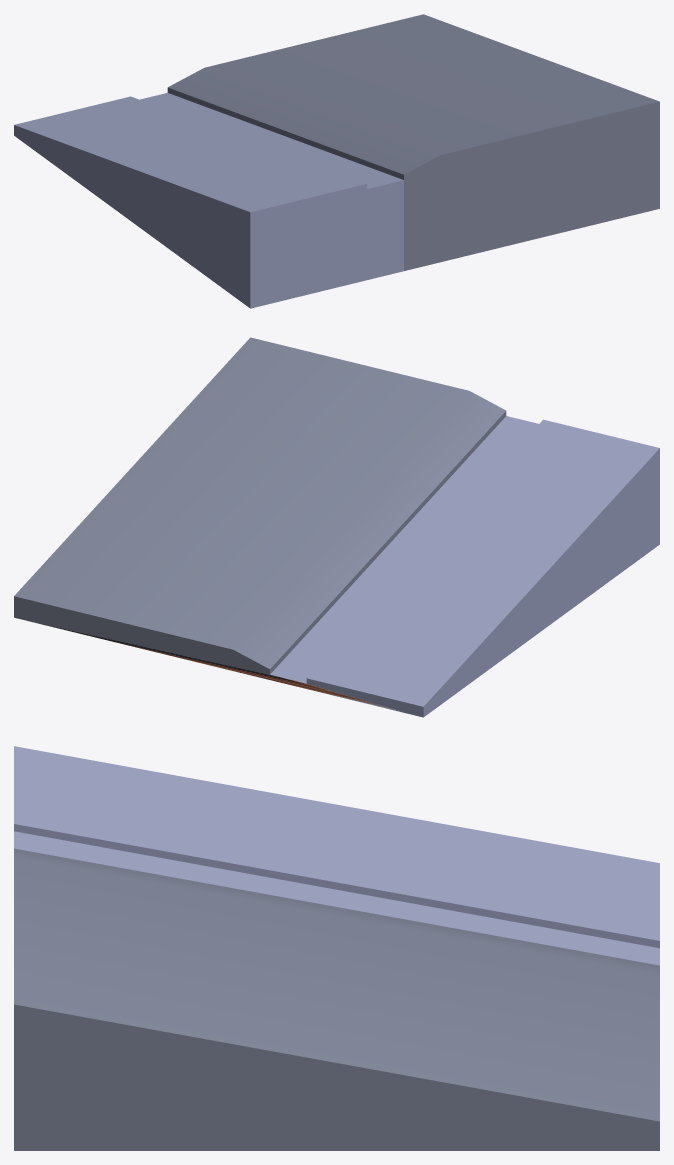
The model's file is road-edge-slope.glb.
3 renders of one model, top to bottom at view 1: azimuth 30°, elevation 25°; view 2: azimuth 150°, elevation 25°; view 3: azimuth 270°, elevation 25°, orthographic. The views are drawn at different scales.
Visible parts, largest first — view 1: road-edge-slope; view 2: road-edge-slope; view 3: road-edge-slope.
Boxes of the visible parts, bbox=[...] form: road-edge-slope: bbox=[14, 14, 659, 308]; road-edge-slope: bbox=[14, 337, 659, 717]; road-edge-slope: bbox=[14, 746, 659, 1150].
Size of the model in its own units: 1 by 0.25 by 1.
1 material, 1 textured.
